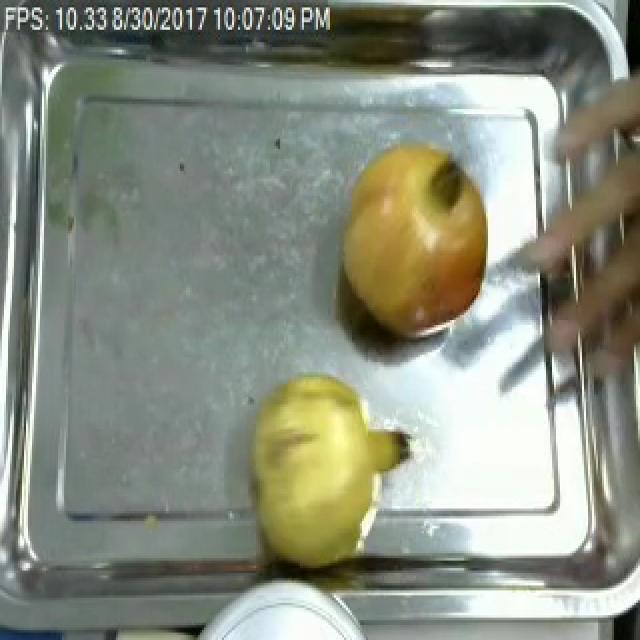fruit: (224, 360, 410, 580), (332, 126, 500, 354)
